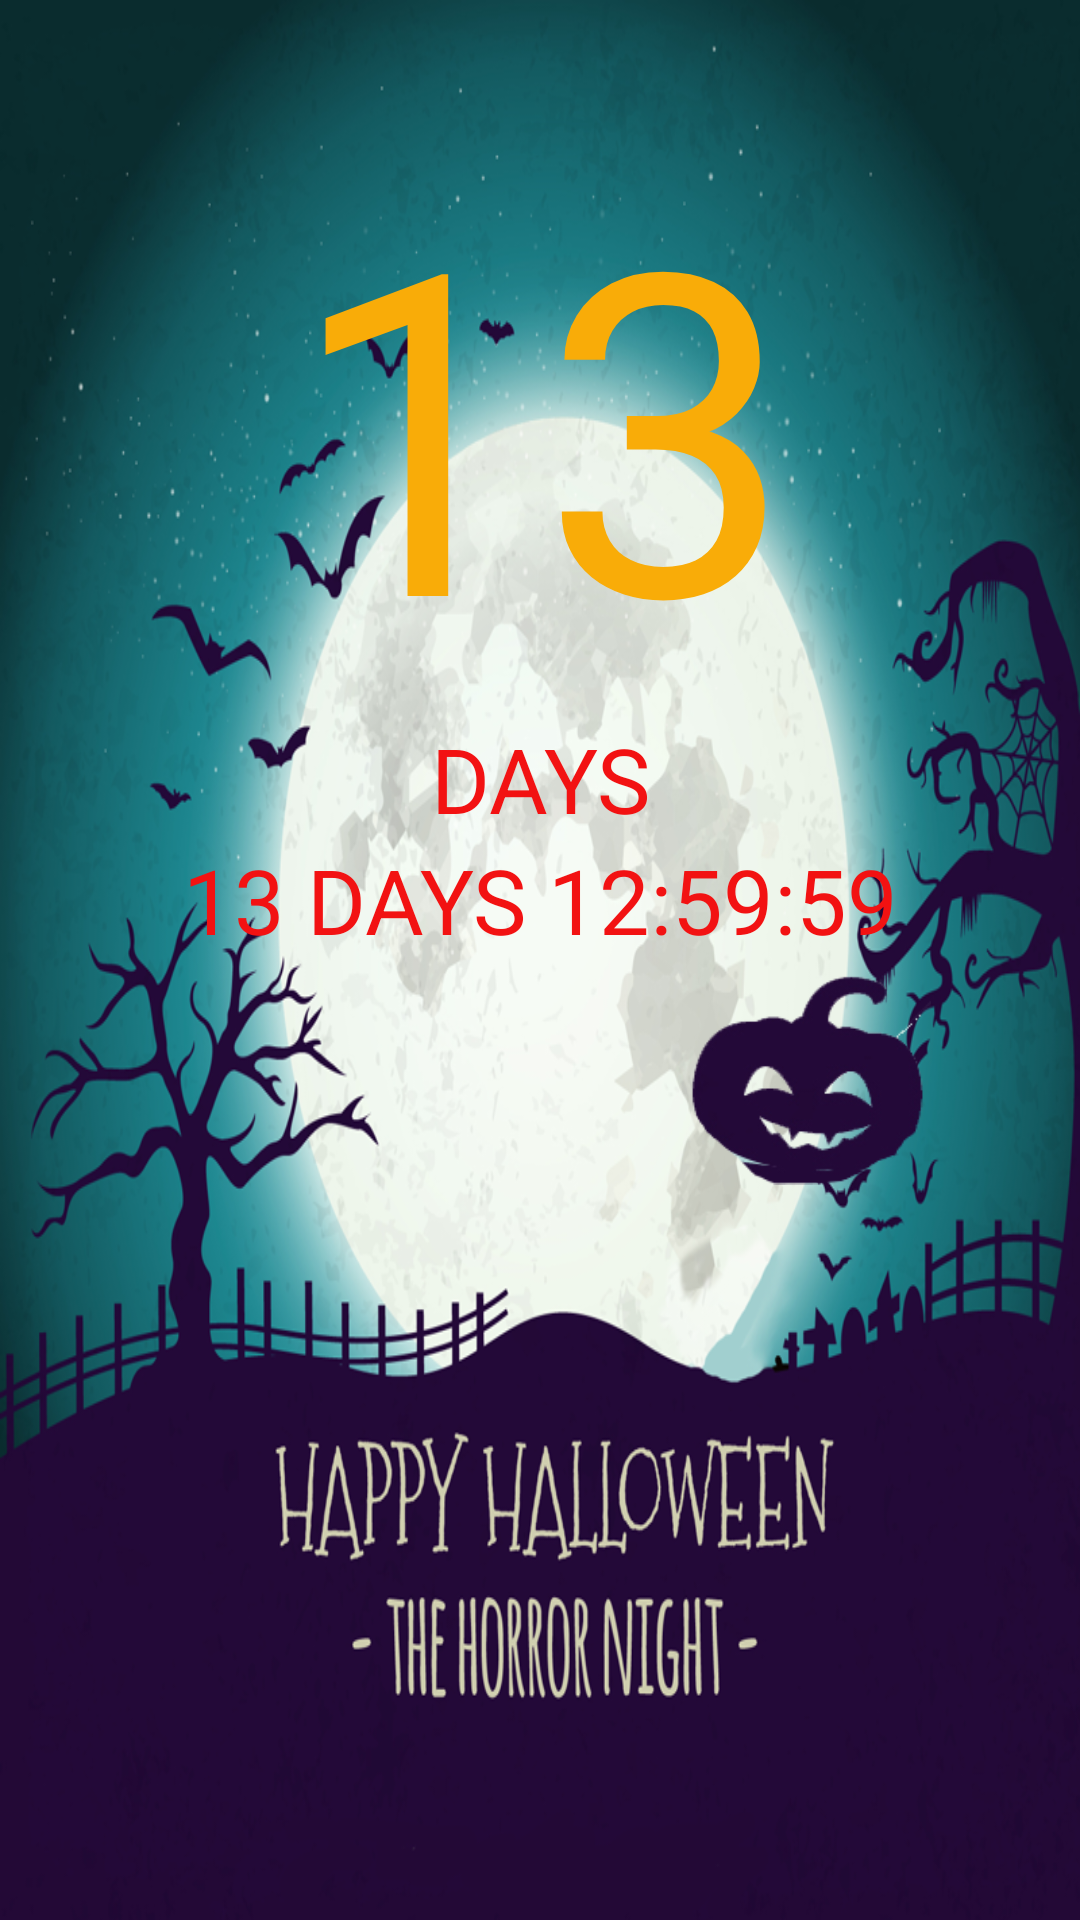

Screen size 1080 x 1920. Icon name, then its center in pixels as point (x, y):
anim pumkin: point (811, 1080)
